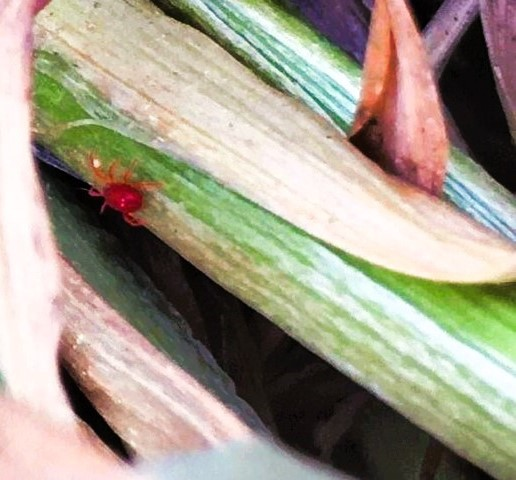Wheat Red Spider: (64, 142, 180, 236)
